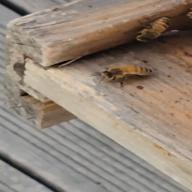Bee: (86, 63, 174, 88), (127, 15, 192, 46)
